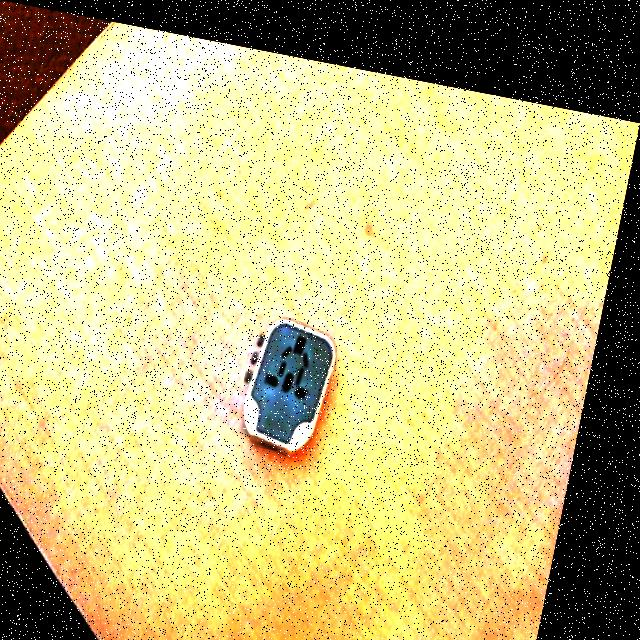adapter: (247, 299, 352, 443)
